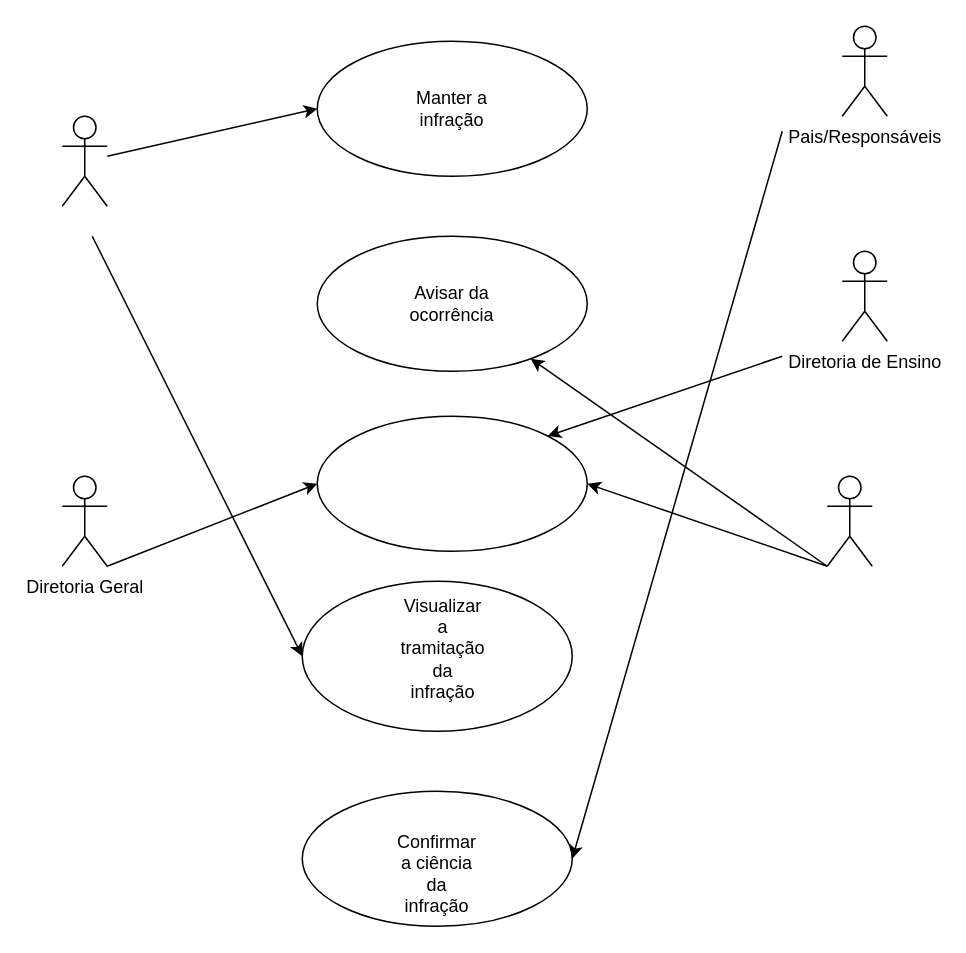
Some shapes in this 966 by 953 pixel diagram are drawn without their labels. The centre of each missing label's shape, as x and y in pixels:
"Coordenação" belongs at pixel 84 160.
"Equipe pedagógica" belongs at pixel 849 520.
"Receber documento breve" belongs at pixel 451 483.
